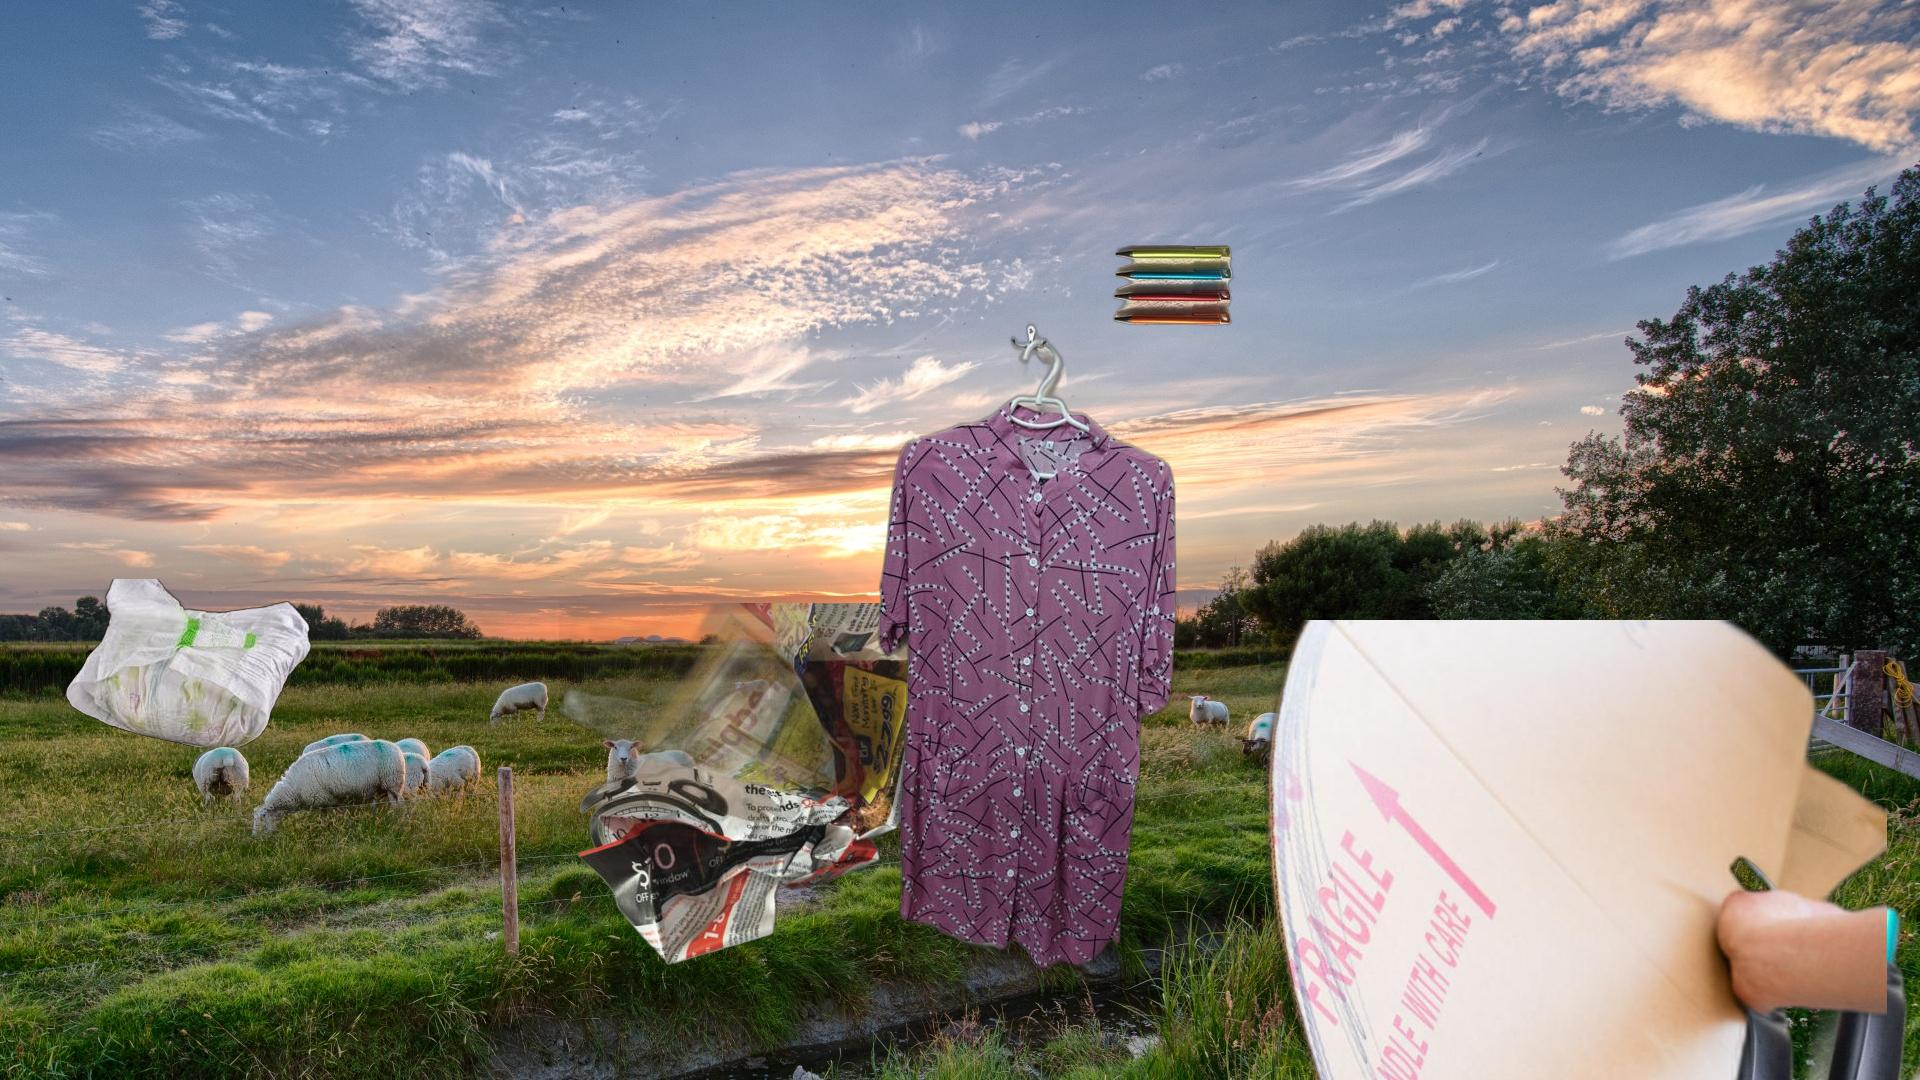battery: (895, 446, 967, 579)
clothes: (876, 318, 1179, 977)
paper: (559, 603, 1025, 968)
penholder: (1640, 865, 1920, 1080), (1112, 243, 1237, 328)
trash: (63, 579, 314, 746)
trashbox-cardboard: (607, 620, 1887, 1080)
